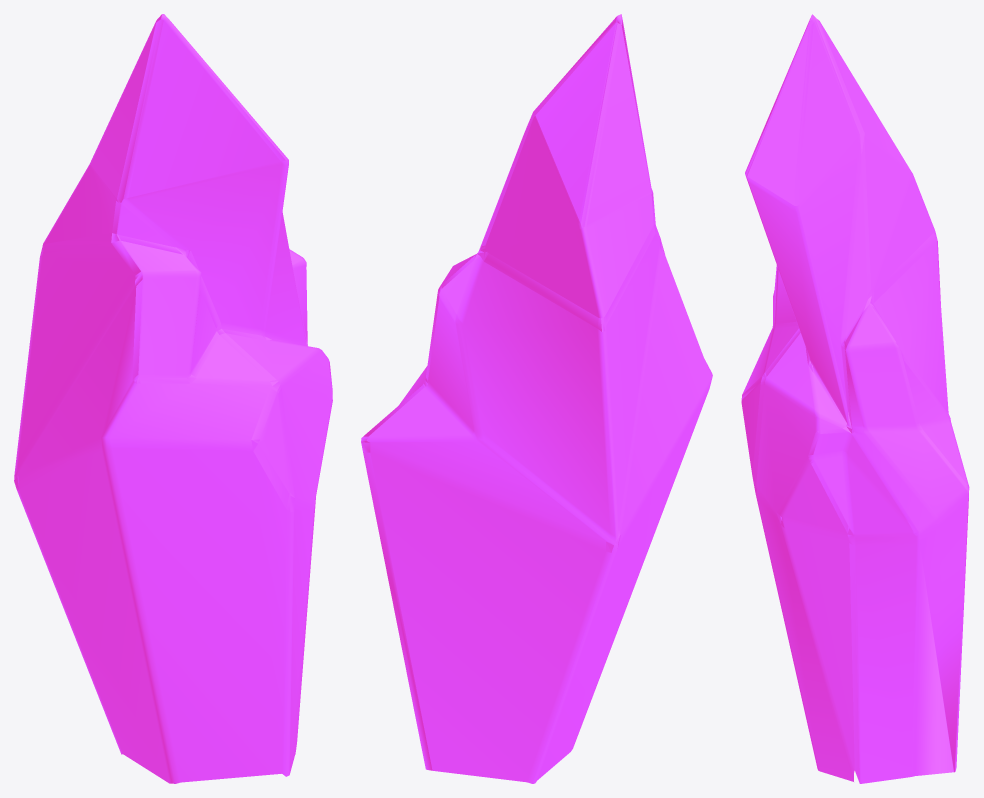
The model's file is 8-shuijing.FBX.
The picture shows the model from 3 angles, left to right: view 1: azimuth 30°, elevation 25°; view 2: azimuth 150°, elevation 25°; view 3: azimuth 270°, elevation 25°; orthographic projection. The views are drawn at different scales.
Visible parts, largest first — view 1: Object170; view 2: Object170; view 3: Object170.
Boxes of the visible parts, <box> form: Object170: <box>14,14,332,783</box>; Object170: <box>361,14,712,783</box>; Object170: <box>741,14,969,783</box>.
Bounding box in the file's own units: 0.2445 × 0.639 × 0.1883.
